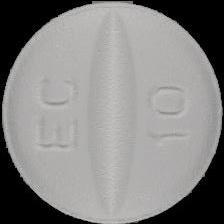54868-6375: (0, 0, 224, 224)
